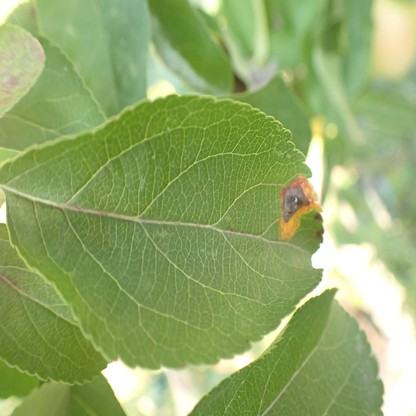rust: (279, 176, 322, 241)
